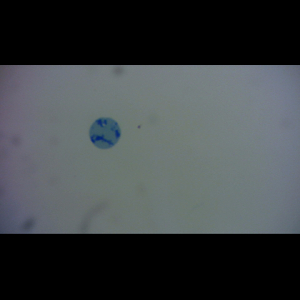aggregate reticulocyte: (88, 117, 122, 150)
